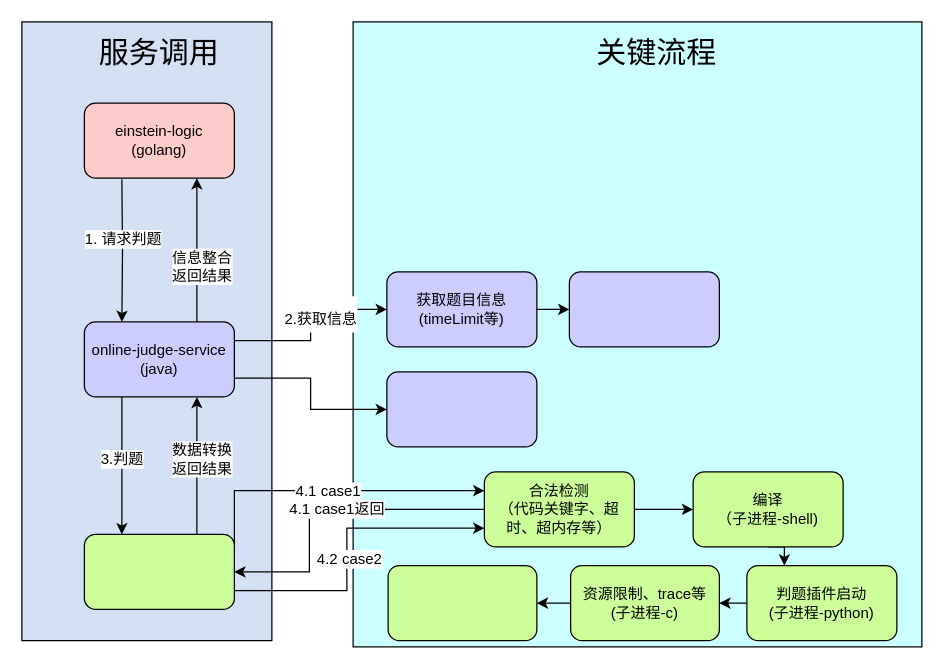
This 944x669 diagram has some shape labels left out. The centre of each missing label's shape, as x and y in pixels:
"judge-server (java)" goes at (x=158, y=571).
"判题结果入库 mysql" goes at (x=461, y=409).
"执行判题 (python、c应用程序)" goes at (x=462, y=602).
"获取test case" goes at (x=643, y=309).
